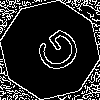G: (25, 25, 85, 83)
